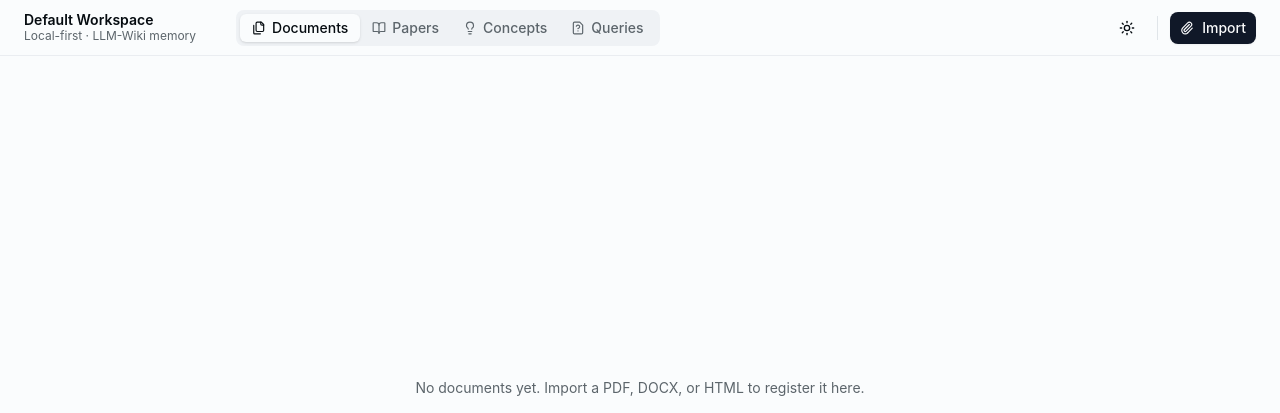
Test: Workspace tabs › switches to the Papers tab when its header tab is clicked
expect the text "No documents yet" is shown: met, box [415, 379, 865, 396]
Click the tab "Papers" at (406, 28), box [360, 14, 451, 42]
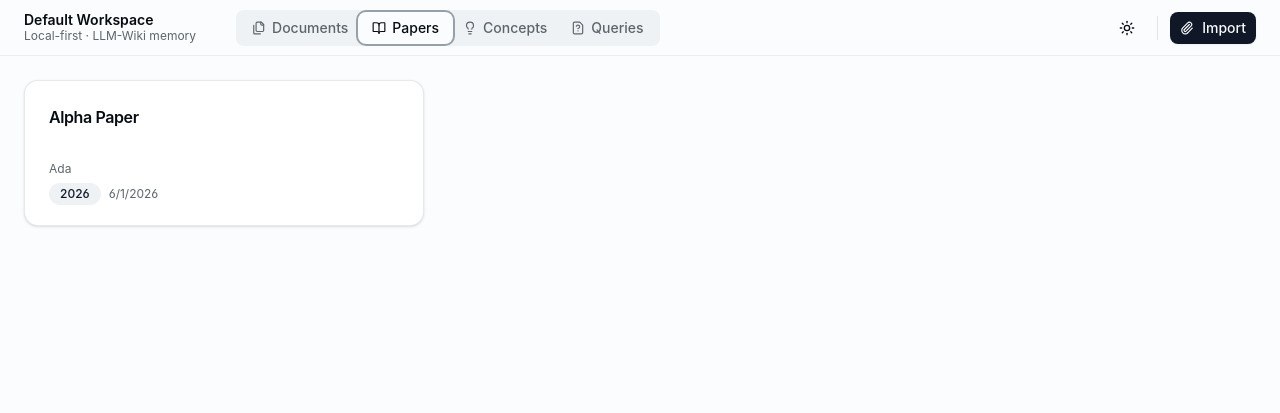
expect the text "Alpha Paper" is shown: met, box [49, 107, 139, 127]
